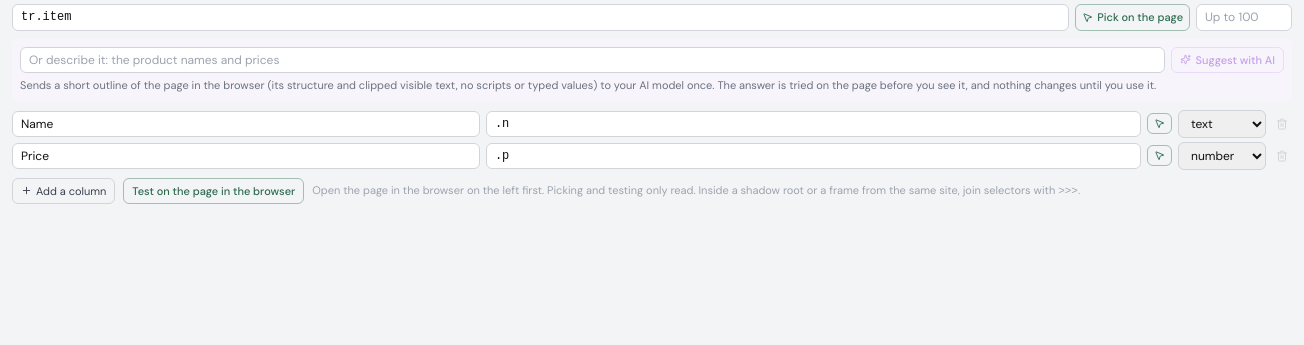
ScrapeEditor › tests on the page in view and shows the rows
This screenshot has width=1304, height=345.
Click the button "Test on the page in the browser" at (214, 191), box left=123, top=178, right=304, bottom=204
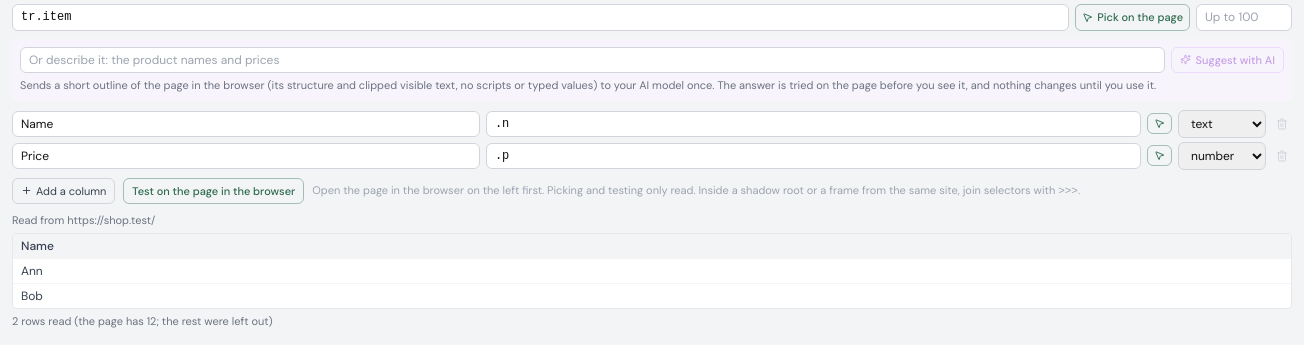
Expected: the text "Ann" is shown, left=13, top=258, right=1291, bottom=283
Expected: the text "Read from https://shop.test/" is shown, left=12, top=213, right=155, bottom=227
